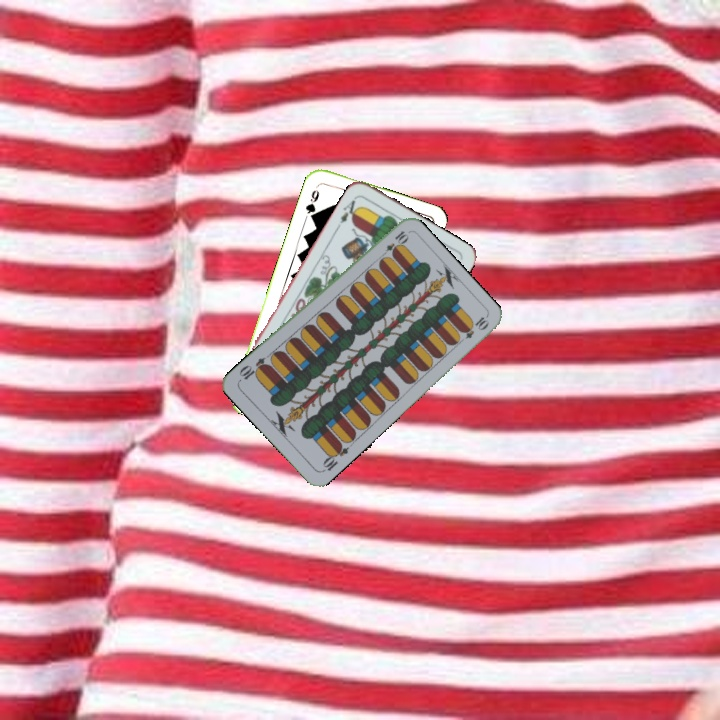E10: (318, 439, 351, 475), (377, 227, 411, 261)
EA: (333, 193, 362, 230)
G9: (302, 186, 322, 222)
